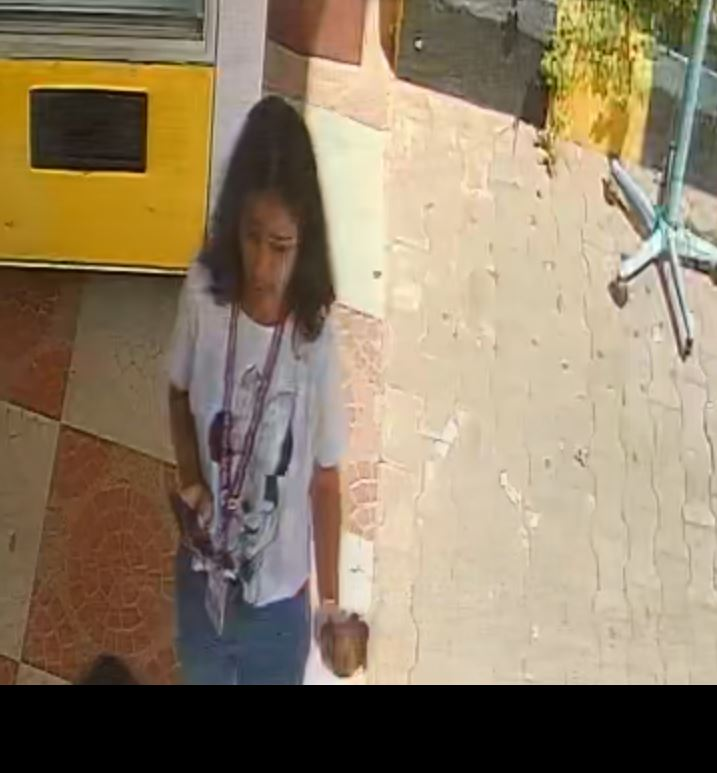intruder: (164, 87, 365, 690)
